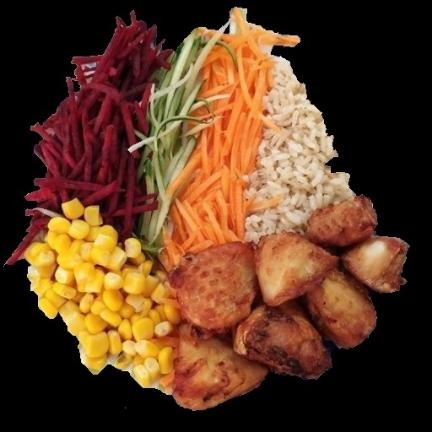beet: (15, 13, 171, 258)
carrot: (152, 7, 276, 272)
chicken: (172, 195, 409, 408)
corn: (22, 198, 171, 400)
cucumber: (135, 32, 214, 250)
rice: (247, 59, 358, 244)
